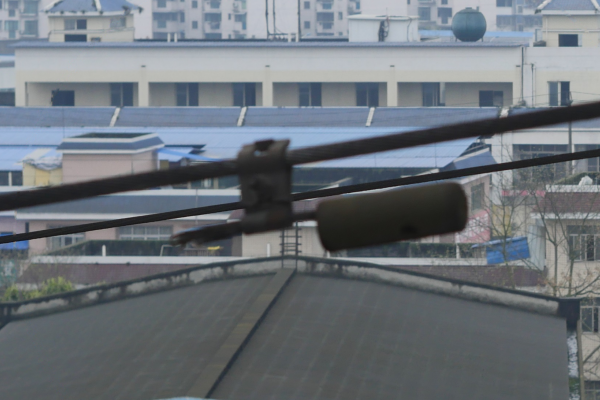damper_defect: (156, 132, 474, 256)
